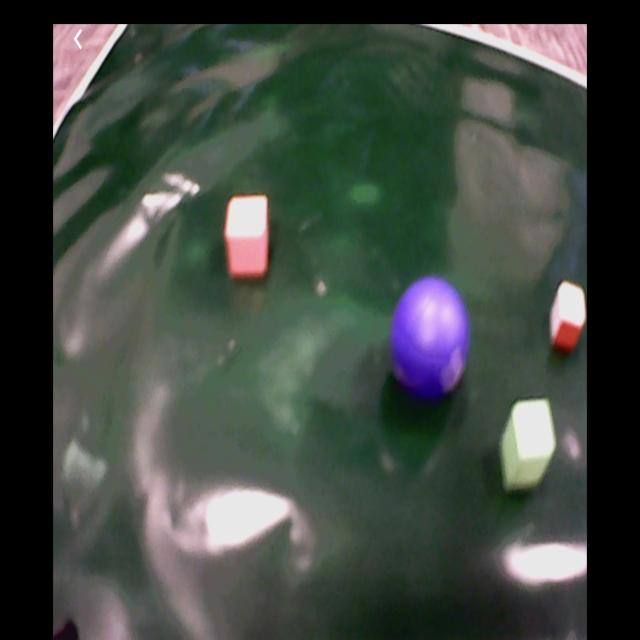ball: (394, 280, 470, 401)
